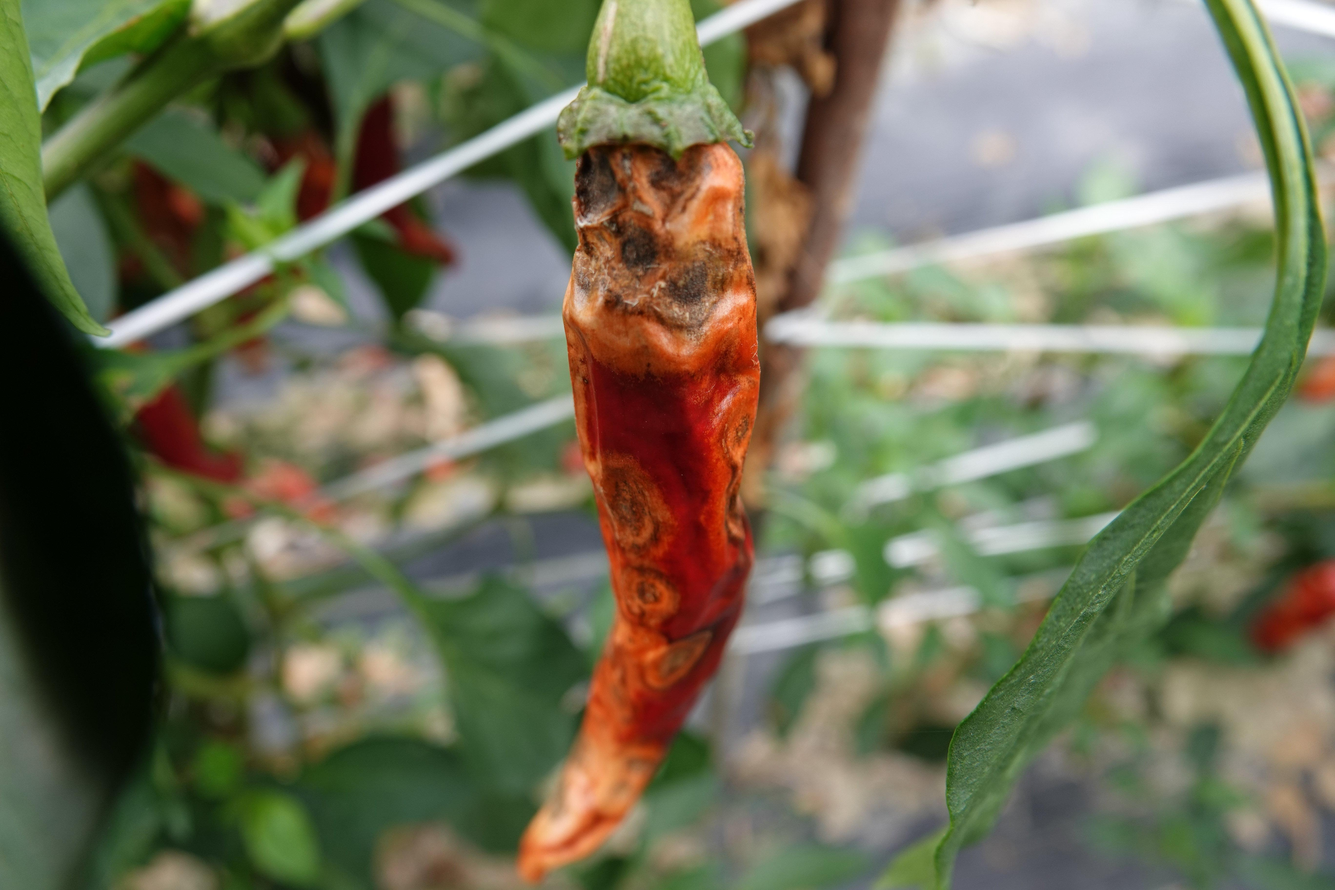Busuk Buah Antraknosa: (513, 1, 765, 882)
